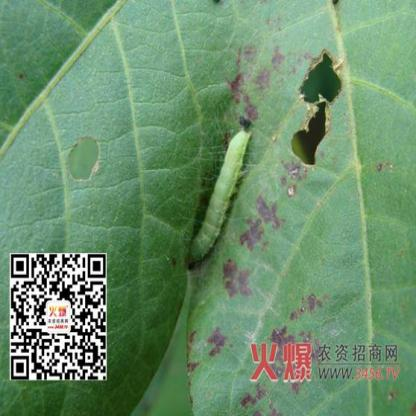armyworm: (182, 123, 255, 273)
